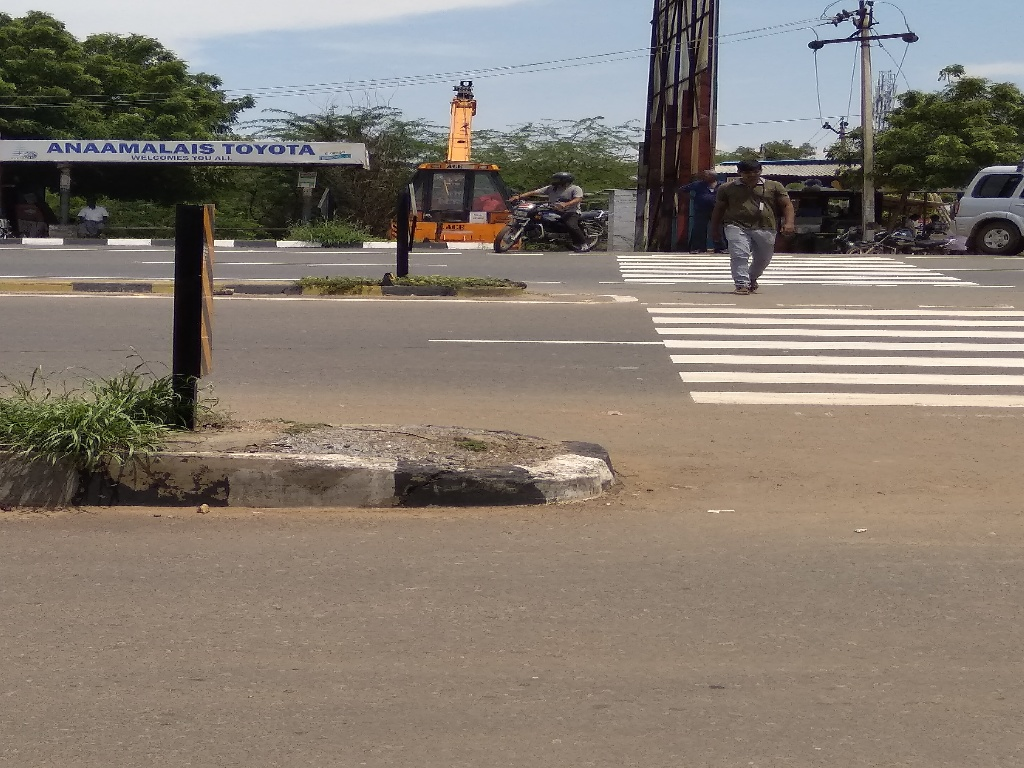biker: (485, 136, 620, 258)
helmet: (544, 161, 578, 197)
